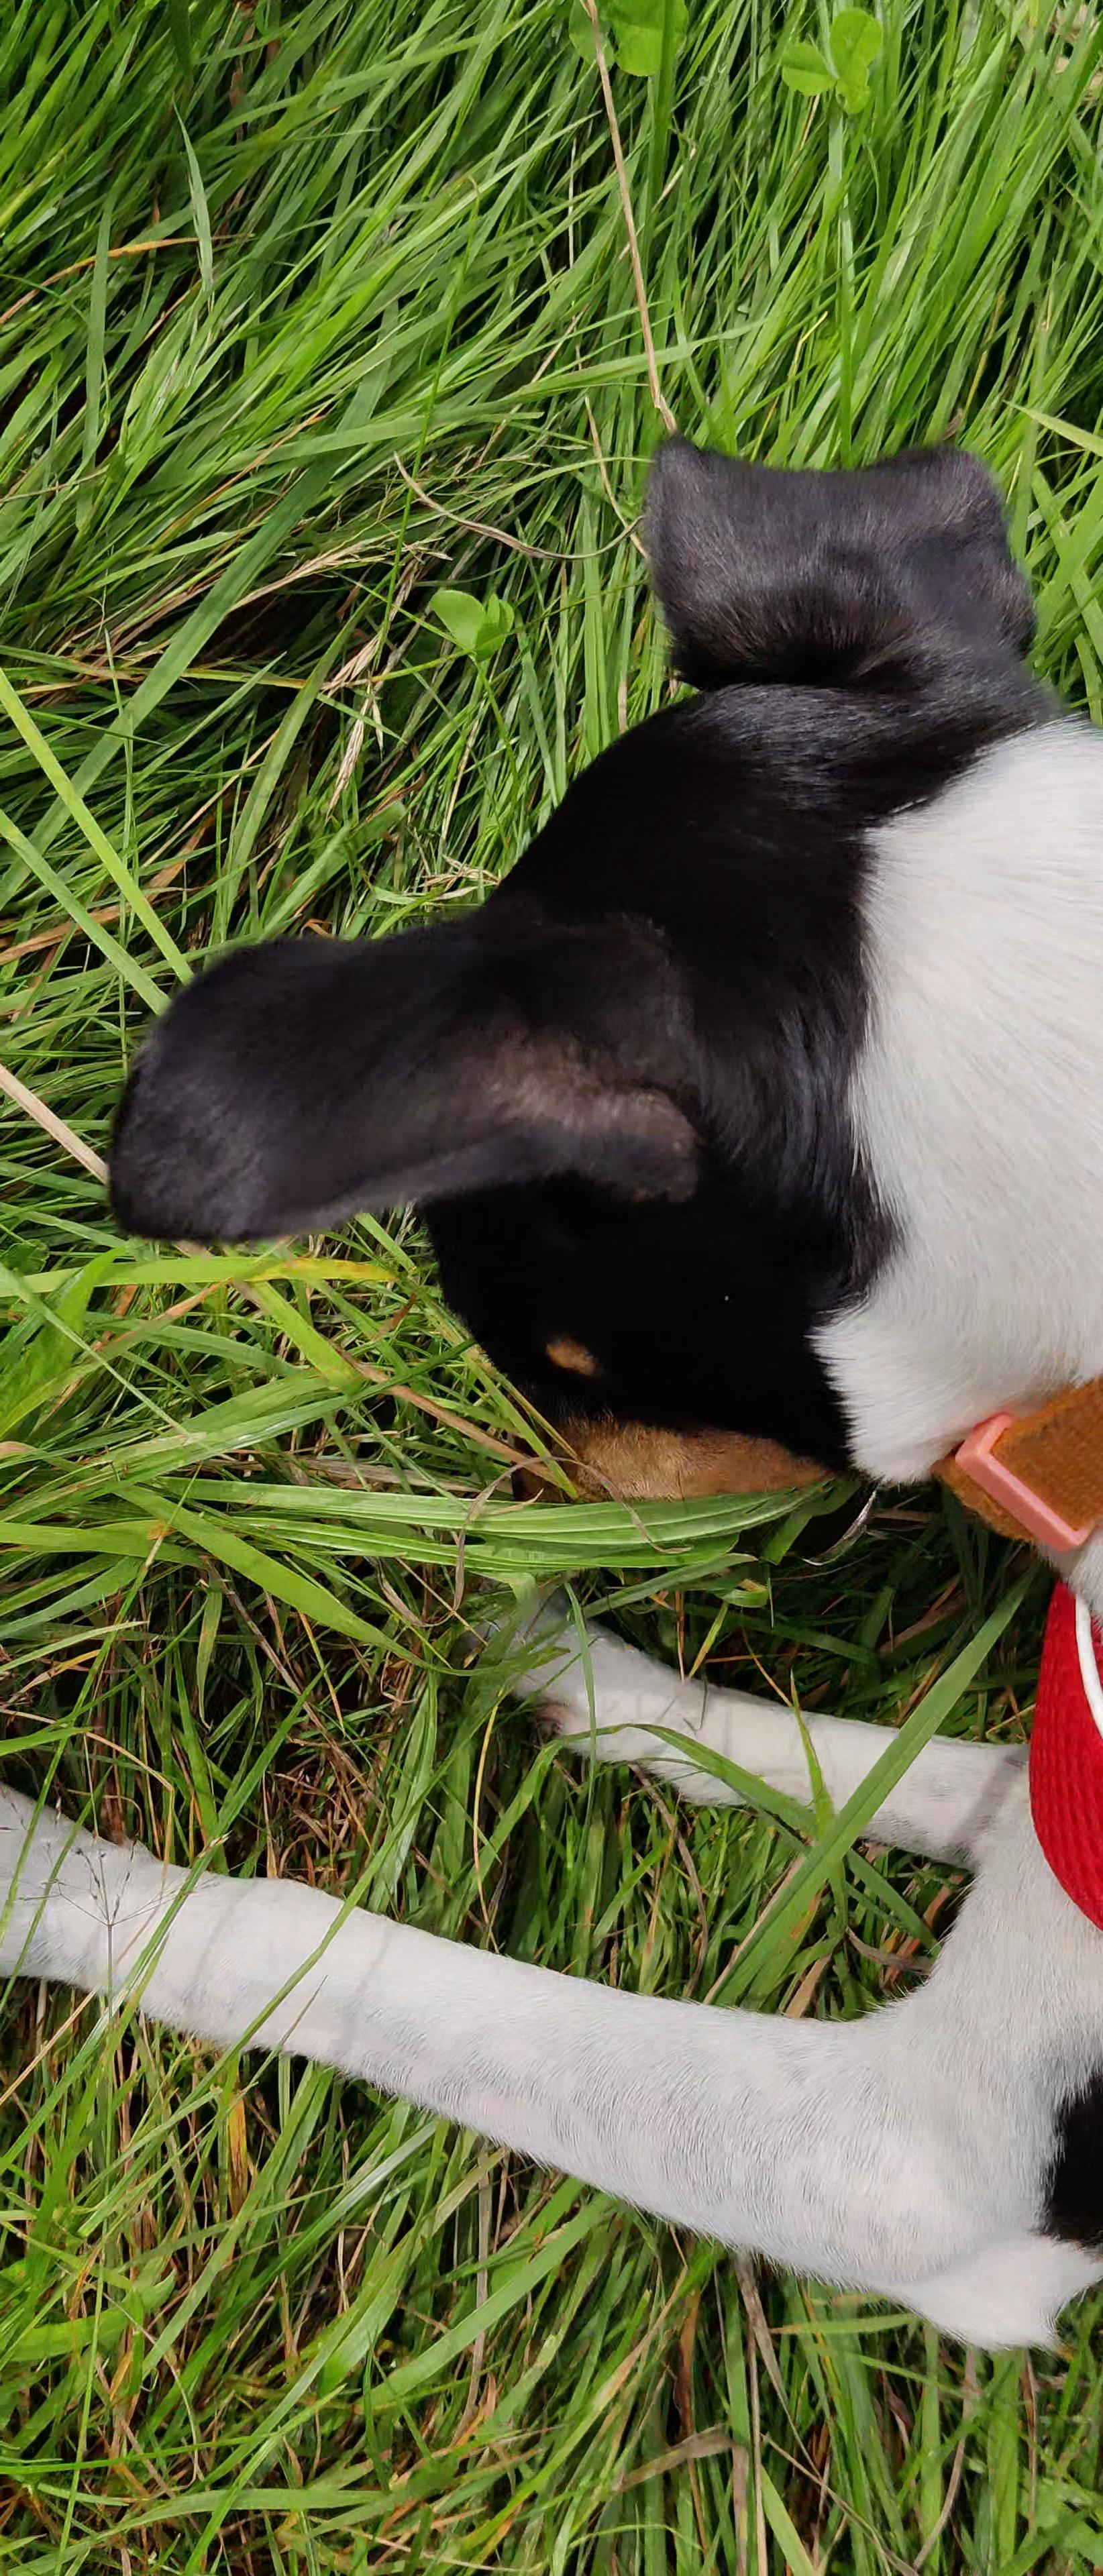Dog: (0, 412, 1103, 2362)
